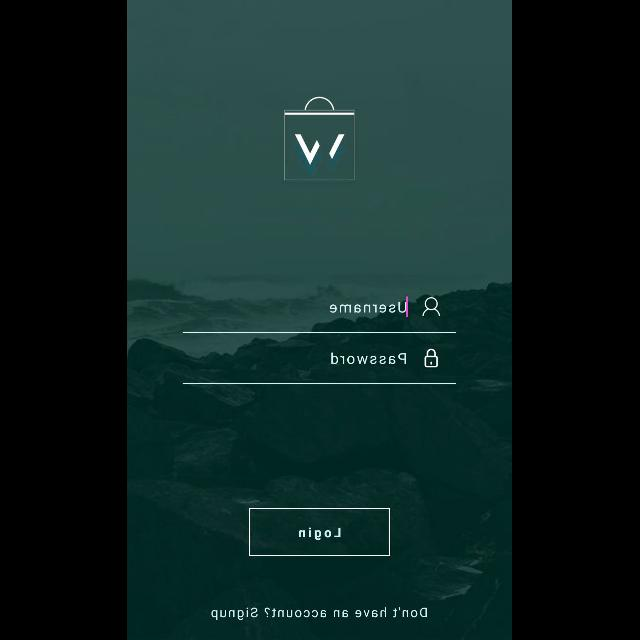backgroundimage: (128, 1, 512, 640)
icon: (423, 298, 441, 316), (425, 348, 439, 368)
image: (285, 97, 355, 181)
input: (184, 296, 456, 334), (184, 349, 456, 385)
text: (212, 608, 428, 620), (332, 353, 406, 365), (330, 302, 408, 312)
textbutton: (250, 508, 390, 556)
